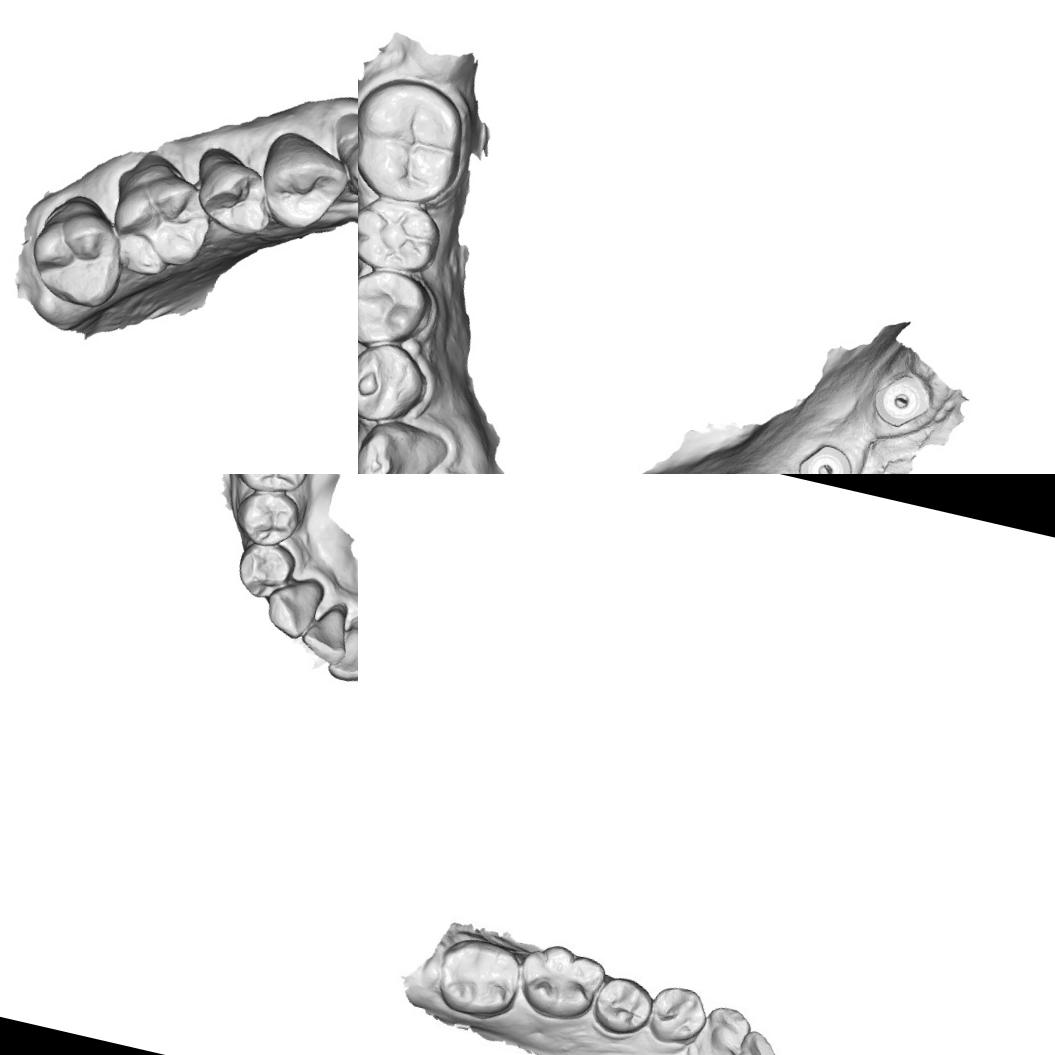canine: (358, 411, 449, 474), (259, 570, 328, 644), (321, 108, 358, 205), (699, 1000, 754, 1055)
implant: (866, 363, 939, 436), (791, 433, 860, 474)
incisor: (296, 597, 356, 669), (324, 622, 358, 688), (731, 1028, 781, 1055)
molar: (358, 70, 476, 215), (99, 162, 222, 288), (20, 203, 134, 313), (431, 931, 526, 1023), (514, 936, 608, 1028), (358, 188, 447, 283), (219, 474, 323, 502)
premolar: (253, 130, 352, 240), (190, 152, 282, 242), (358, 337, 431, 431), (358, 264, 435, 353), (230, 484, 306, 552), (231, 535, 300, 605), (591, 975, 653, 1042), (648, 982, 709, 1044)
